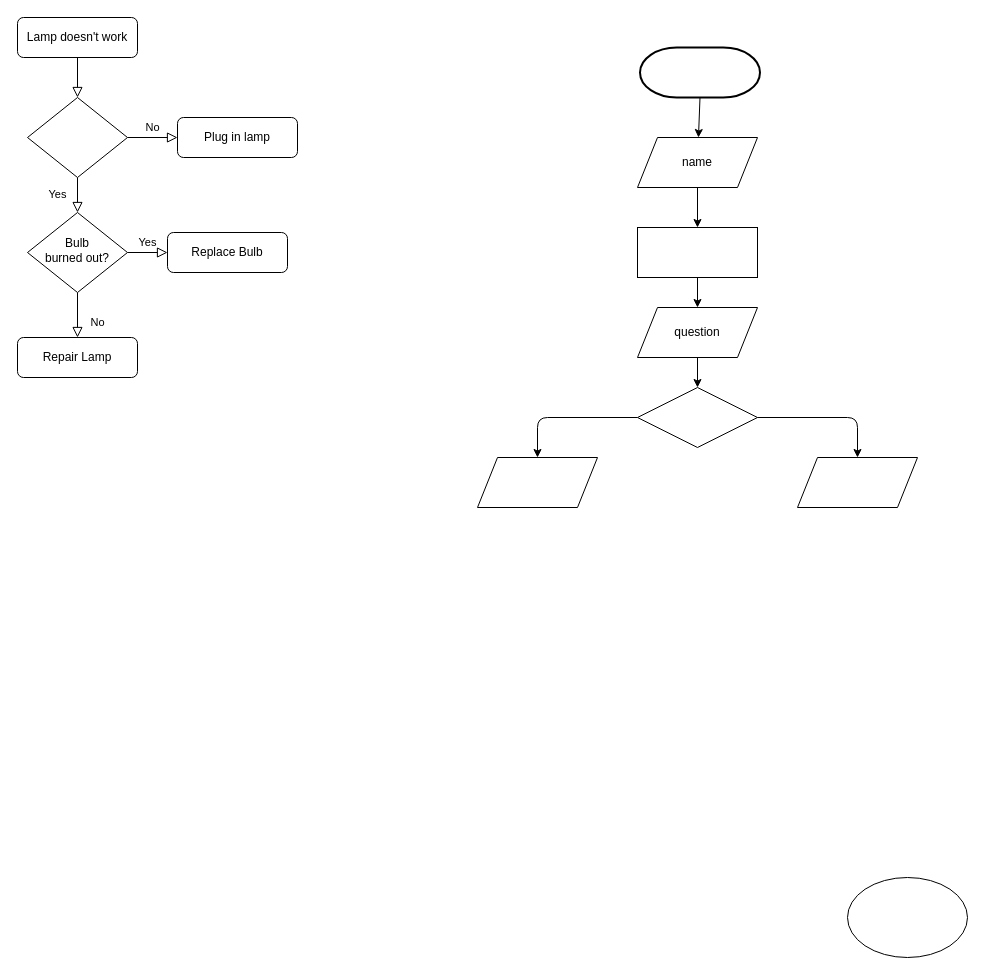
Image size: 985x975. Some labels were removed from this diagram. The centre of each missing label's shape, as x and y in pixels:
"correct or incorrect" belongs at point 697,417.
"Lamp plugged in?" belongs at point 77,137.
"set score 0" belongs at point 697,252.
